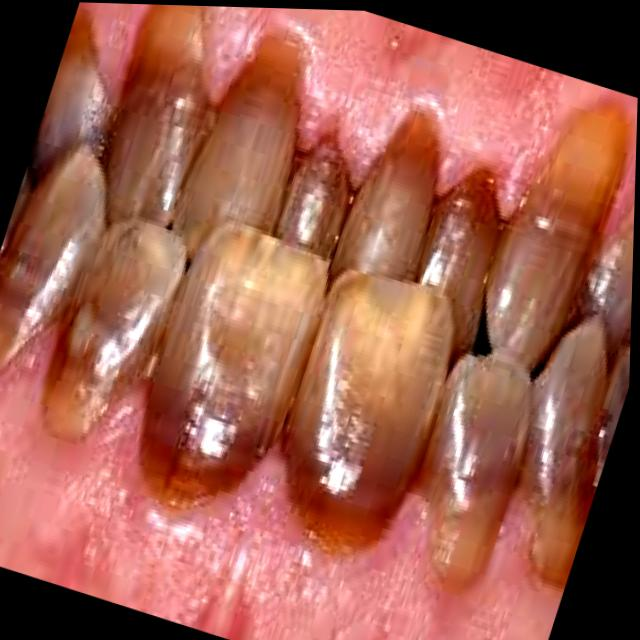tooth-discoloration: (142, 225, 325, 508), (281, 275, 450, 550), (484, 109, 623, 373), (41, 222, 183, 441), (420, 357, 528, 589), (182, 39, 296, 255), (0, 148, 103, 372), (105, 5, 208, 227), (521, 318, 605, 590), (329, 114, 435, 281), (417, 175, 497, 365), (29, 17, 108, 177), (275, 145, 347, 258), (587, 222, 634, 355)
